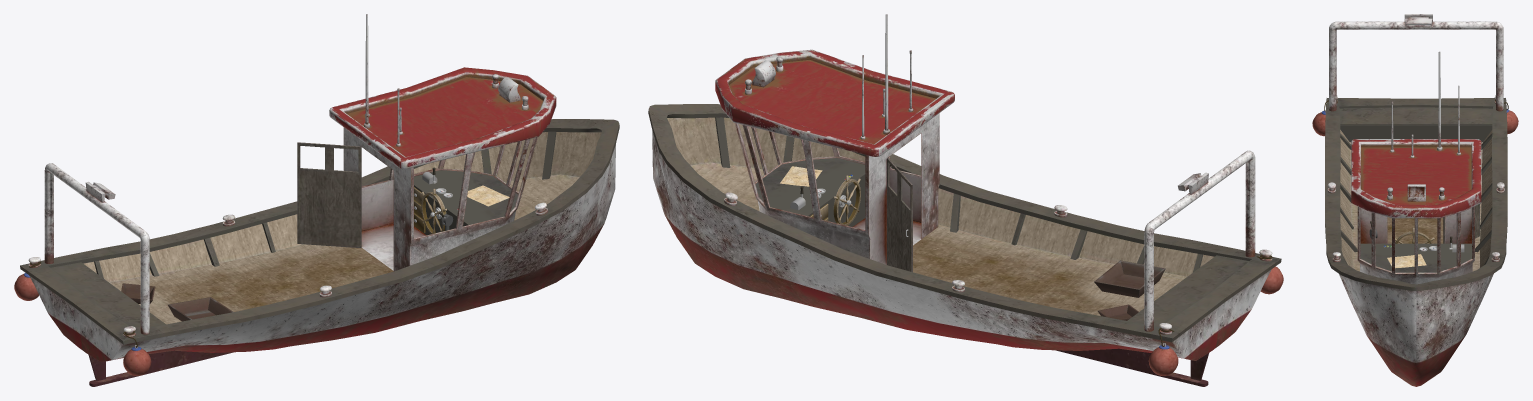
Rendered from fishing_boat.glb.
3 renders of one model, left to right at view 1: azimuth 30°, elevation 25°; view 2: azimuth 150°, elevation 25°; view 3: azimuth 270°, elevation 25°, orthographic. The views are drawn at different scales.
Visible parts, largest first — view 1: boat_boat_material_0, boat_cabin_boat_cabin_material_0; view 2: boat_boat_material_0, boat_cabin_boat_cabin_material_0; view 3: boat_boat_material_0, boat_cabin_boat_cabin_material_0.
Part boxes in pixels (x1,y1,x2,y2): boat_boat_material_0: (14, 119, 619, 386); boat_cabin_boat_cabin_material_0: (297, 14, 556, 271); boat_boat_material_0: (648, 104, 1283, 386); boat_cabin_boat_cabin_material_0: (715, 14, 954, 272); boat_boat_material_0: (1312, 14, 1518, 386); boat_cabin_boat_cabin_material_0: (1351, 51, 1481, 284).
Size of the model in its own units: 3.33 by 1.73 by 1.24.
Materials: 2 (2 with a texture image).
